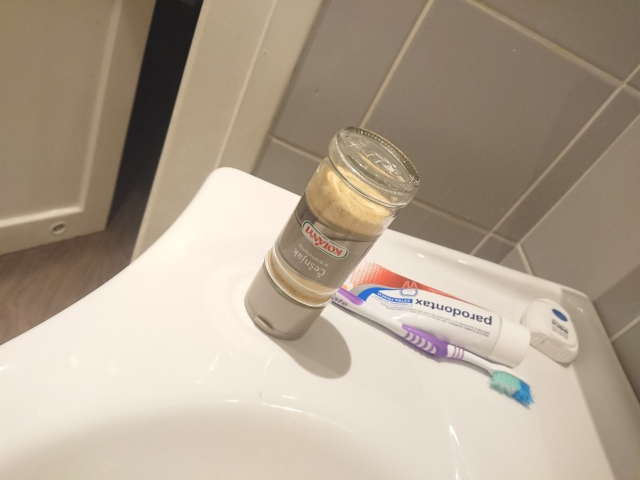Kotanyi Garlic Granules 70g: (241, 123, 423, 344)
